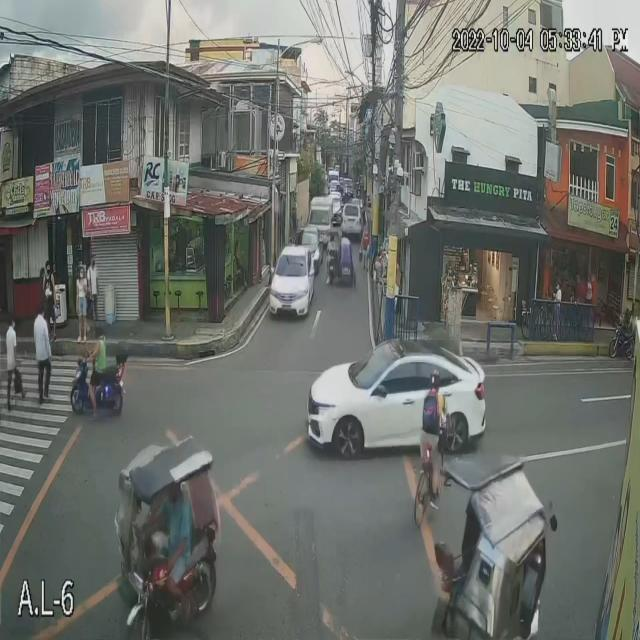Full-Faced: (89, 317, 104, 338)
